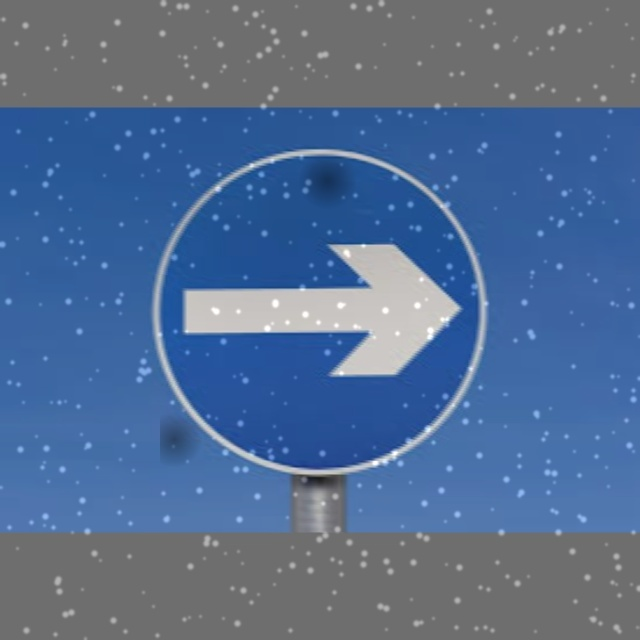Compulsory_Turn_Right: (160, 146, 485, 472)
